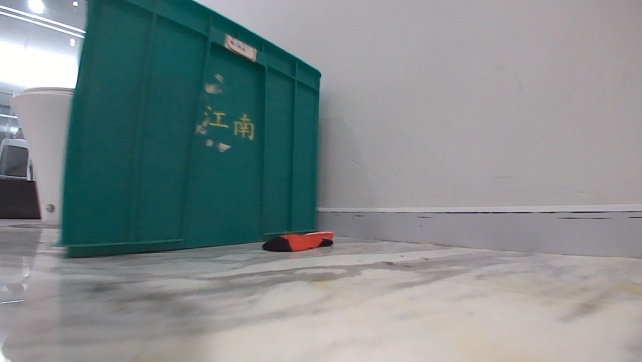socks: (258, 229, 335, 254)
toilet: (8, 83, 75, 223)
